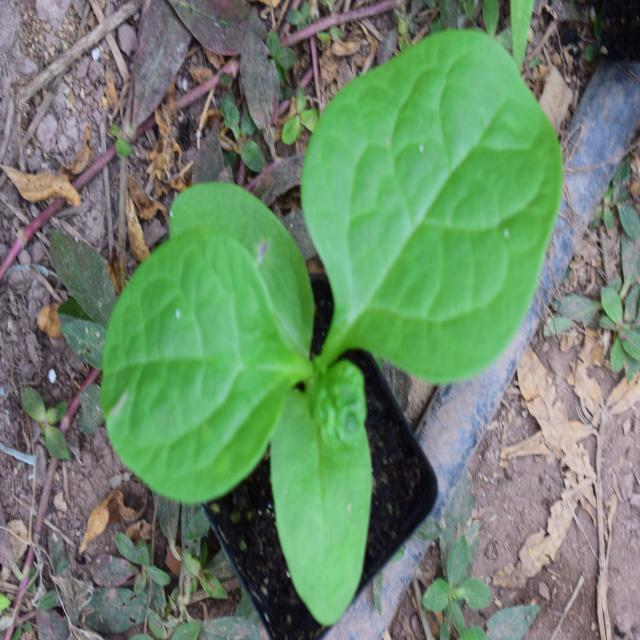Ceylon spinach: (99, 30, 555, 593)
